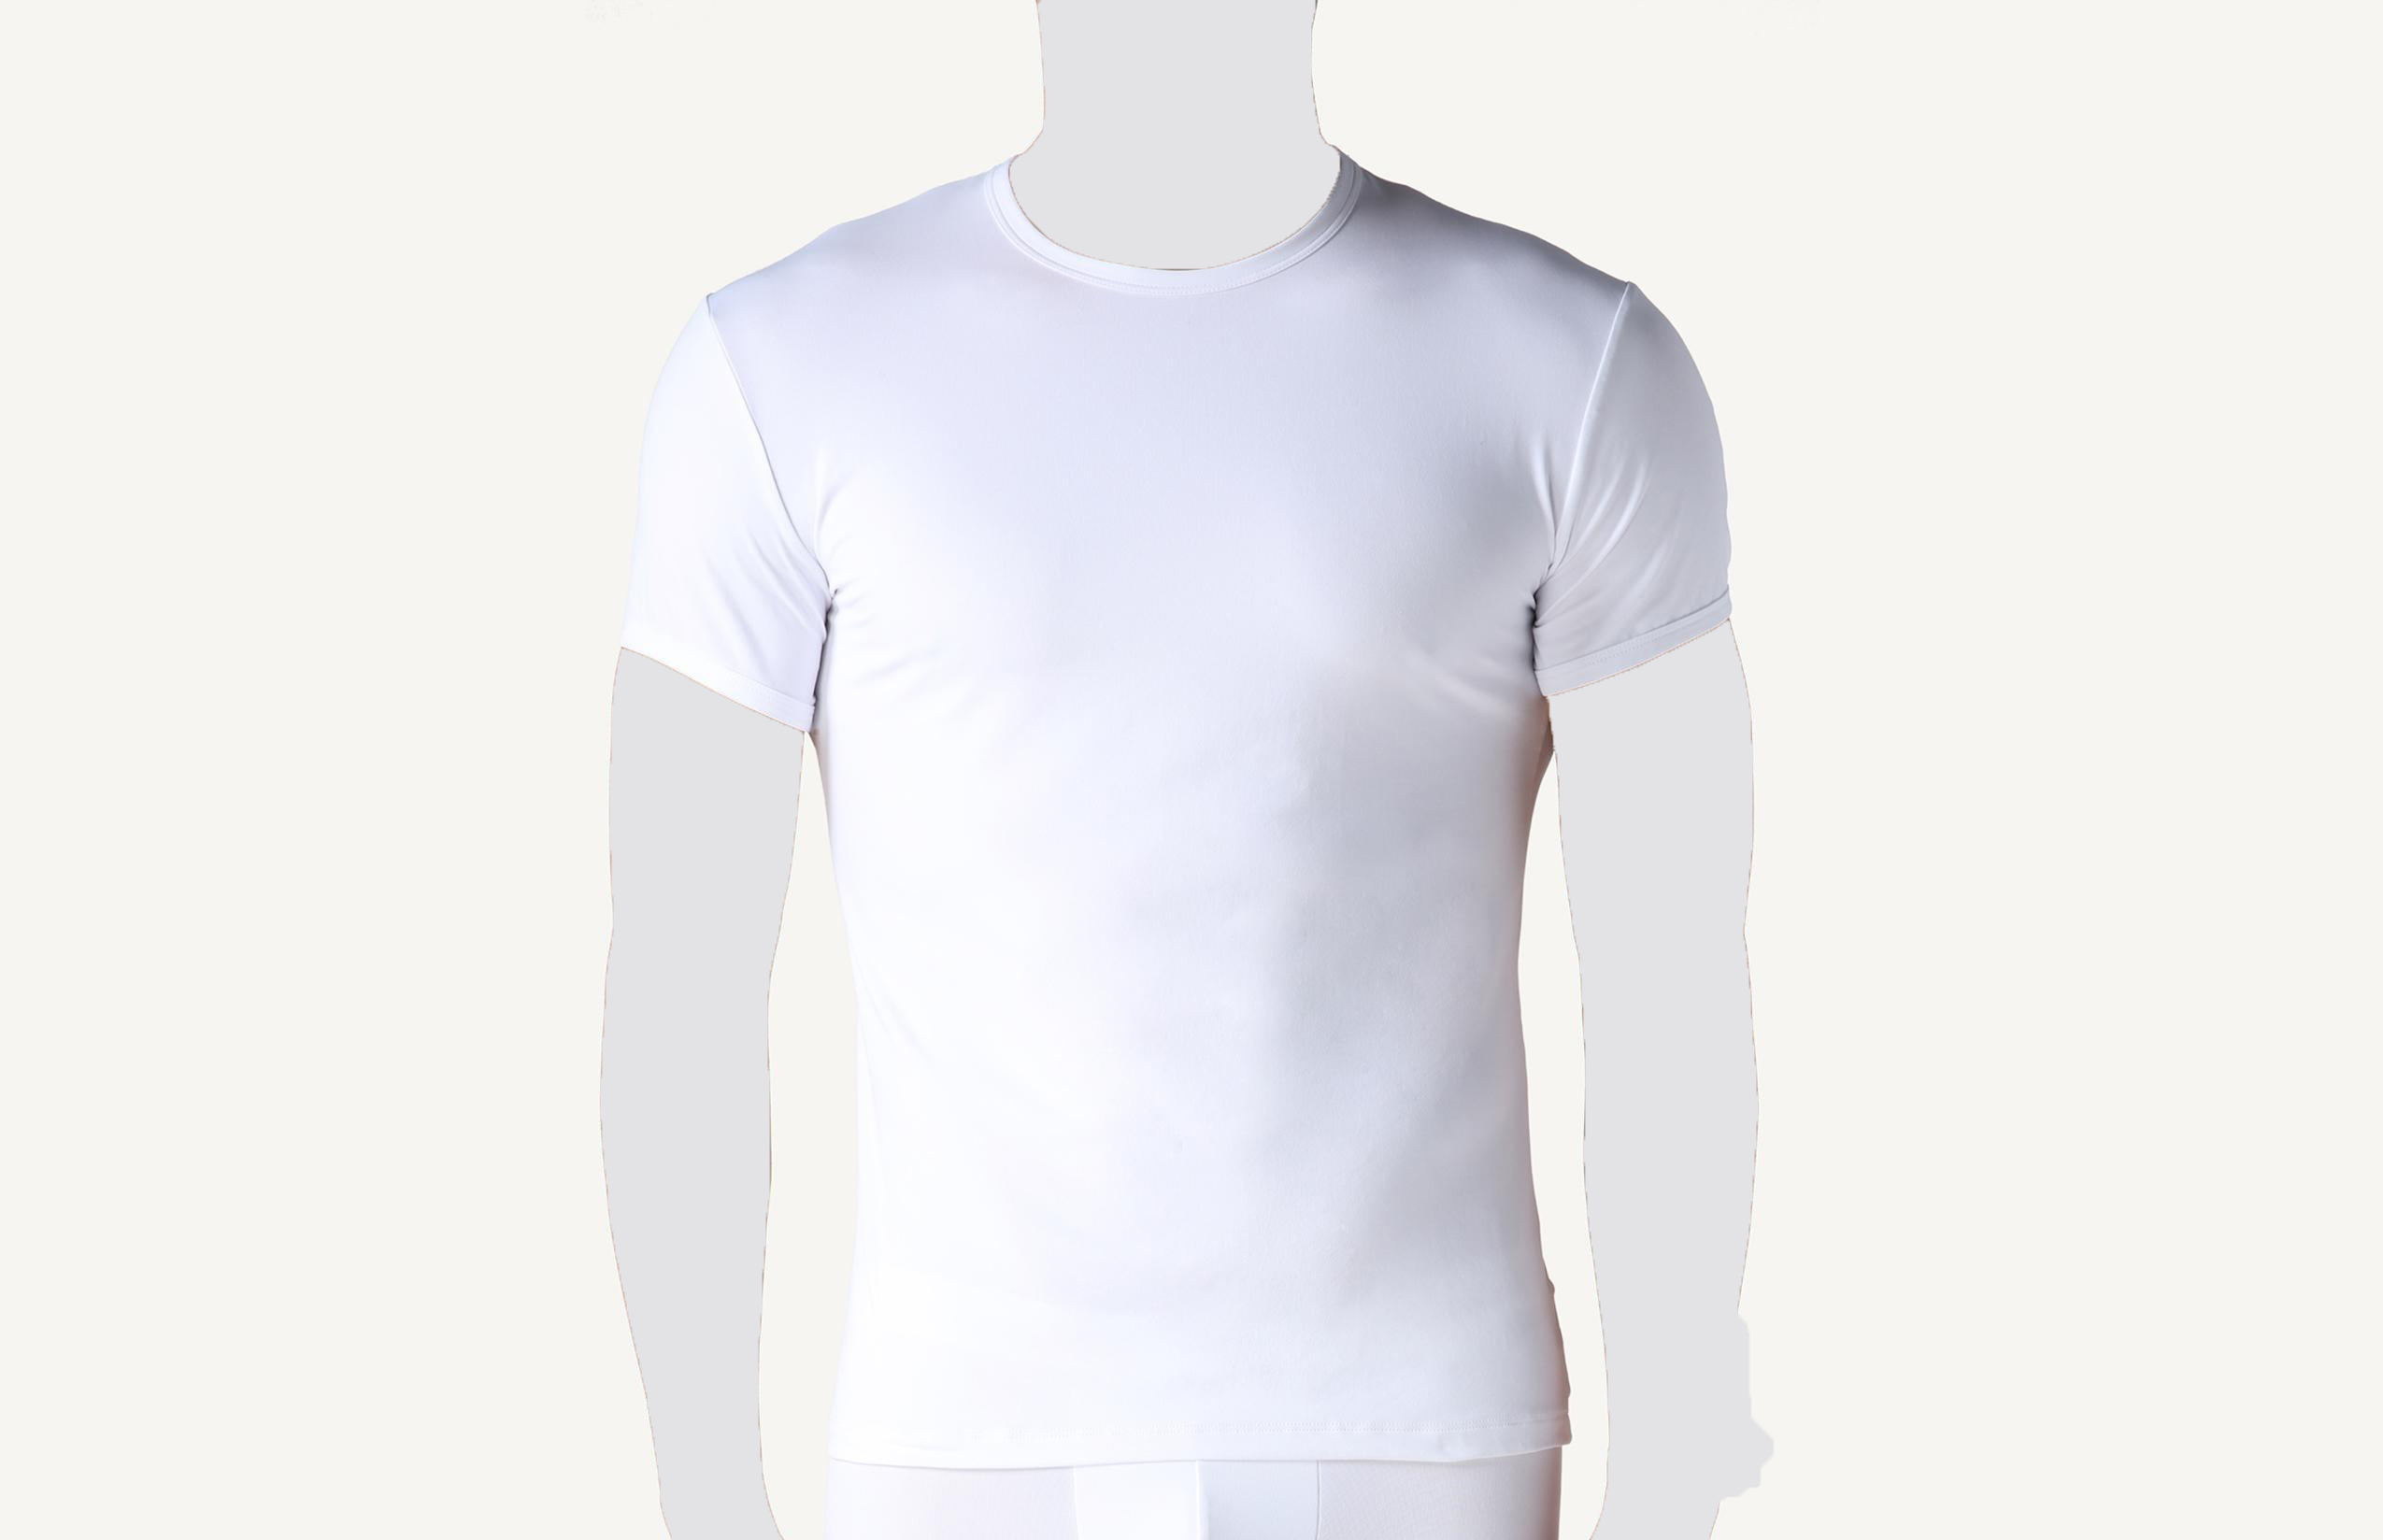teeshirt: (568, 144, 1740, 1540)
